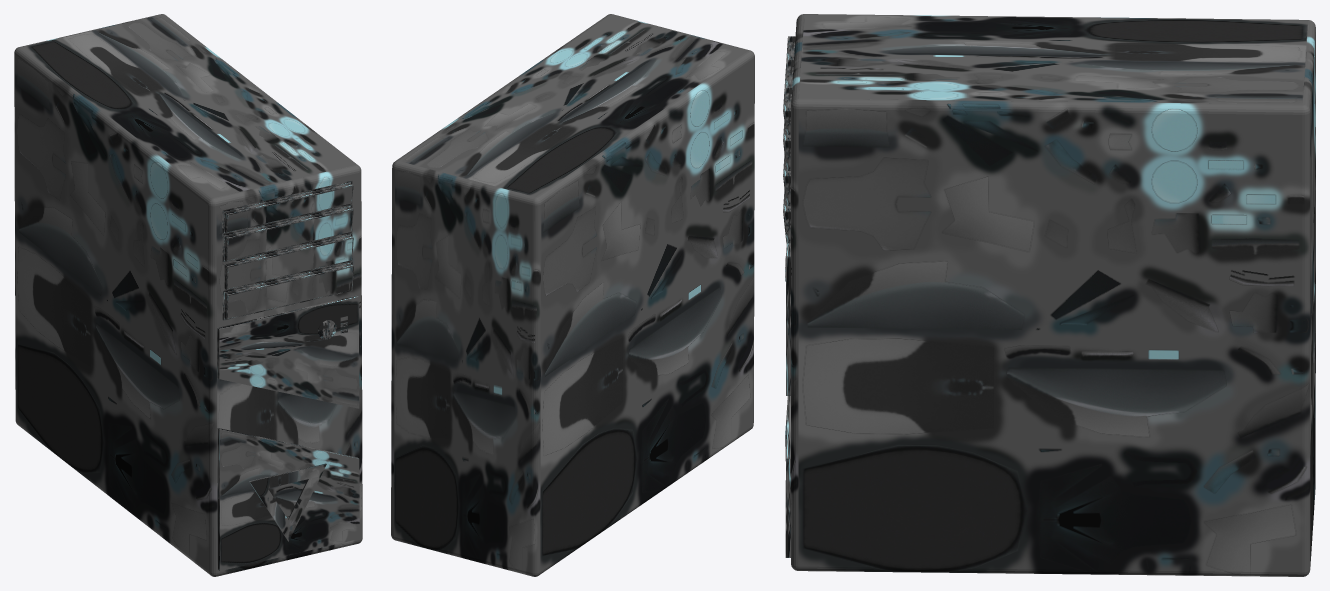
3 renders of one model, left to right at view 1: azimuth 30°, elevation 25°; view 2: azimuth 150°, elevation 25°; view 3: azimuth 270°, elevation 25°, orthographic. The views are drawn at different scales.
Parts seen in each view (by area): view 1: PC; view 2: PC; view 3: PC.
Boxes of the visible parts, <box> form: PC: <box>14,14,362,576</box>; PC: <box>391,14,754,576</box>; PC: <box>783,14,1315,576</box>.
Bounding box in the file's own units: 0.2096 × 0.4715 × 0.4828.
1 material, 1 textured.
